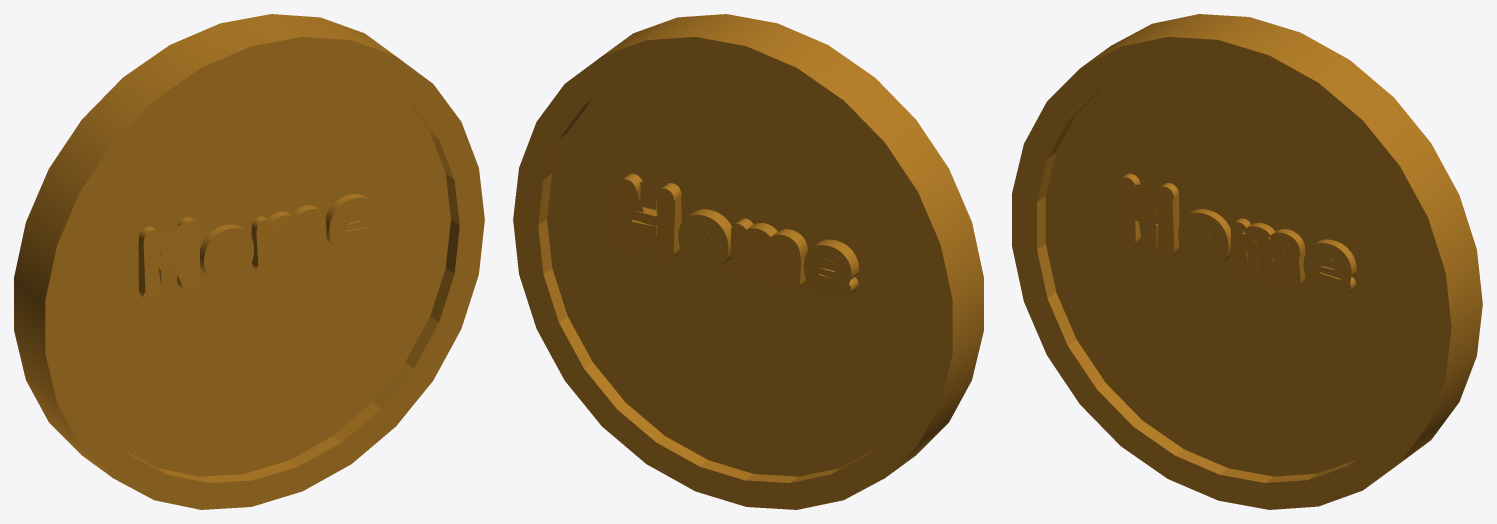
The model's file is coin_home.FBX.
3 renders of one model, left to right at view 1: azimuth 30°, elevation 25°; view 2: azimuth 150°, elevation 25°; view 3: azimuth 330°, elevation 25°, orthographic.
Parts seen in each view (by area): view 1: Cylinder001; view 2: Cylinder001; view 3: Cylinder001.
Boxes of the visible parts, x1,y1,x2,y2 form: Cylinder001: (14, 14, 484, 509); Cylinder001: (513, 14, 983, 509); Cylinder001: (1012, 14, 1482, 509).
Size of the model in its own units: 63.1 by 63.21 by 7.99.
